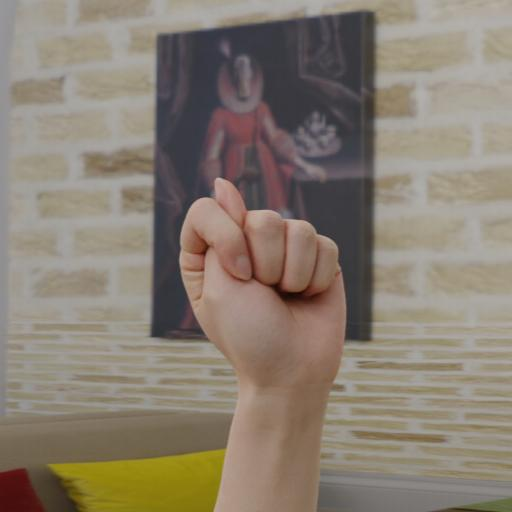T: (173, 162, 363, 484)
